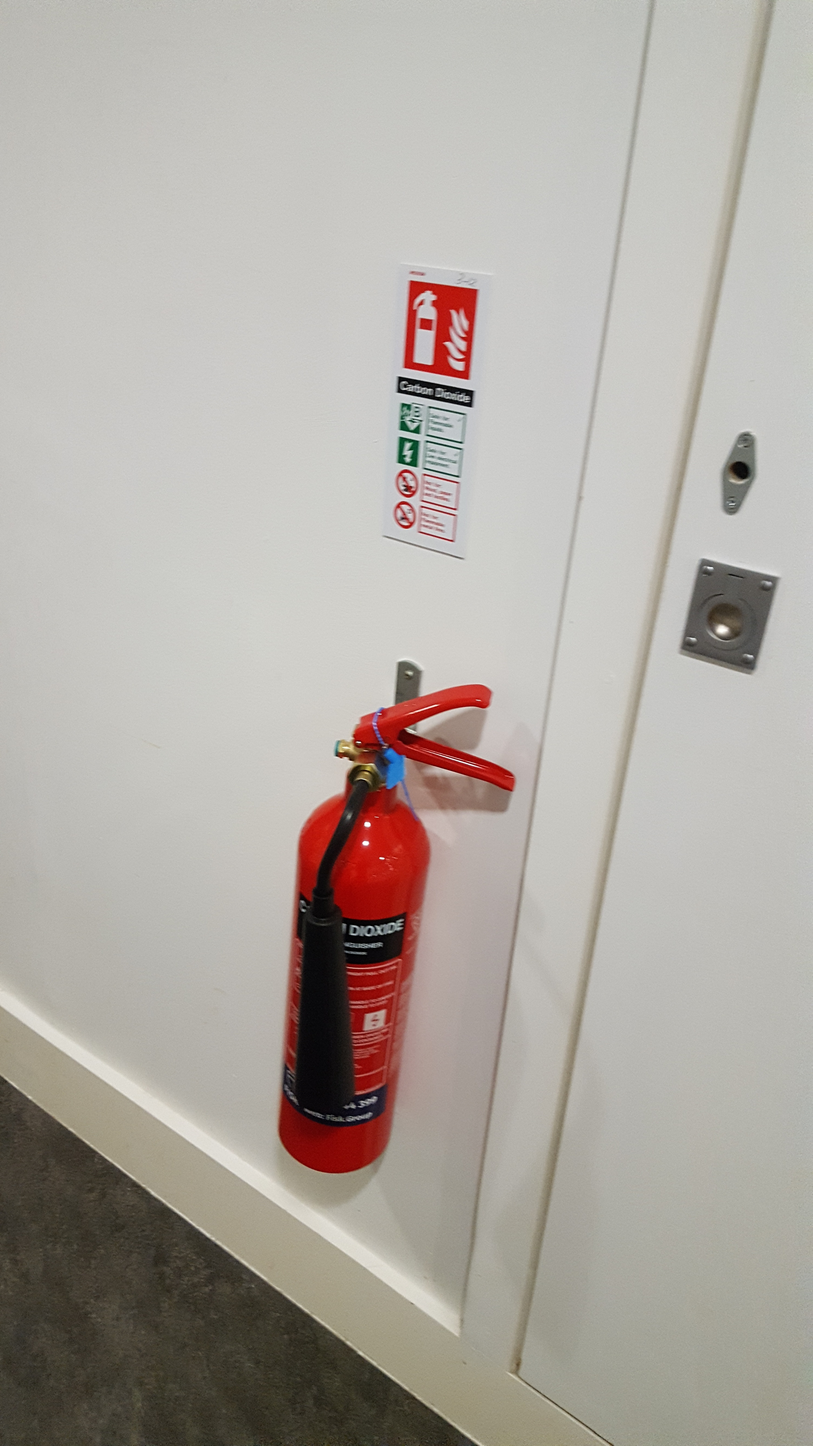fire_extinguisher: (277, 665, 516, 1175)
